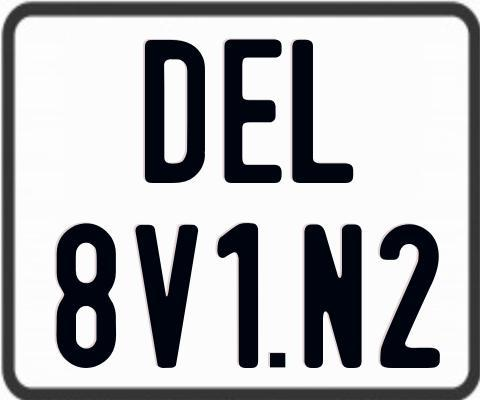1: (214, 220, 258, 367)
2: (378, 223, 441, 373)
8: (55, 220, 119, 369)
D: (142, 40, 202, 186)
E: (224, 39, 285, 189)
L: (290, 38, 356, 186)
N: (301, 222, 362, 366)
V: (134, 225, 198, 373)
